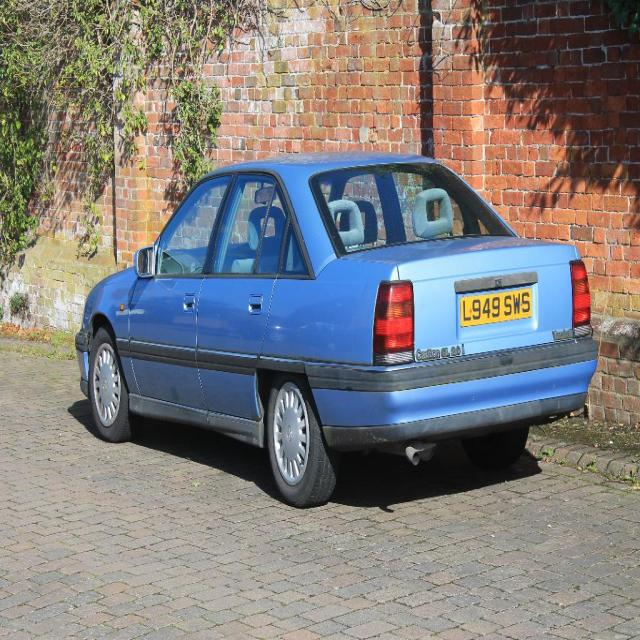car: (74, 151, 597, 508)
